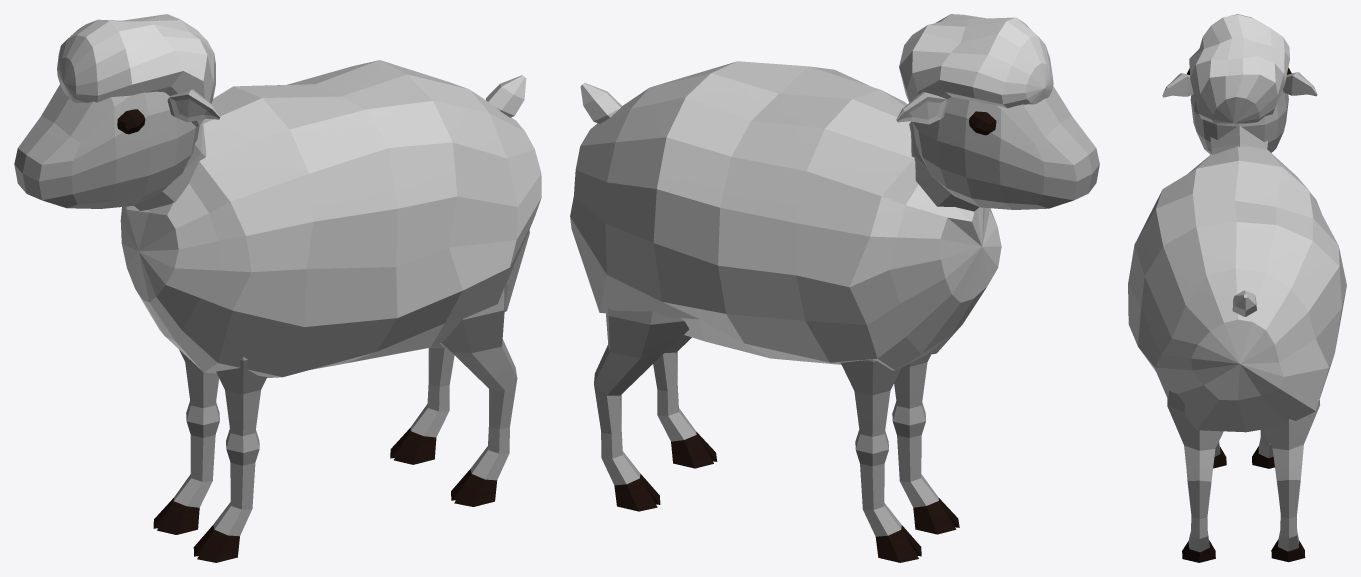
Rendered from FBX_Sheep.fbx.
3 views of the same model, side by side, from view 1: azimuth 30°, elevation 25°; view 2: azimuth 150°, elevation 25°; view 3: azimuth 270°, elevation 25° (orthographic). The views are drawn at different scales.
Parts seen in each view (by area): view 1: M_Sheep; view 2: M_Sheep; view 3: M_Sheep.
Part boxes in pixels (x1=…): M_Sheep: x1=14, y1=14, x2=541, y2=562; M_Sheep: x1=570, y1=14, x2=1099, y2=562; M_Sheep: x1=1128, y1=14, x2=1346, y2=562.
Bounding box in the file's own units: 0.6583 × 0.668 × 0.3204.
